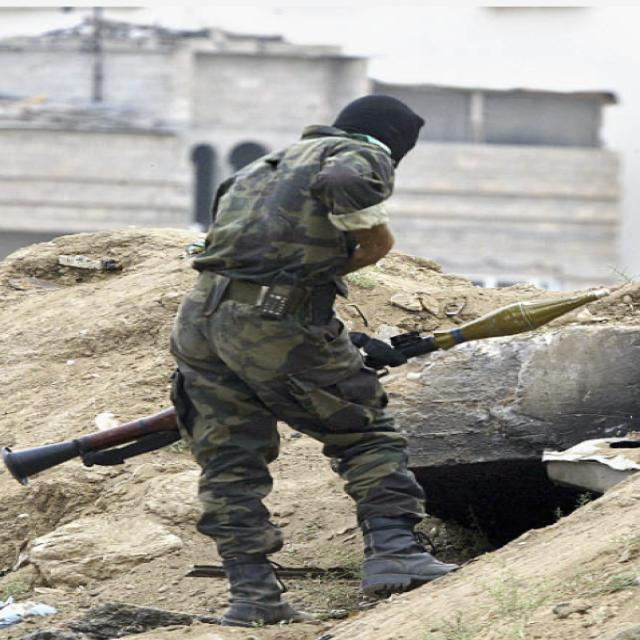bazooka: (5, 277, 632, 487)
